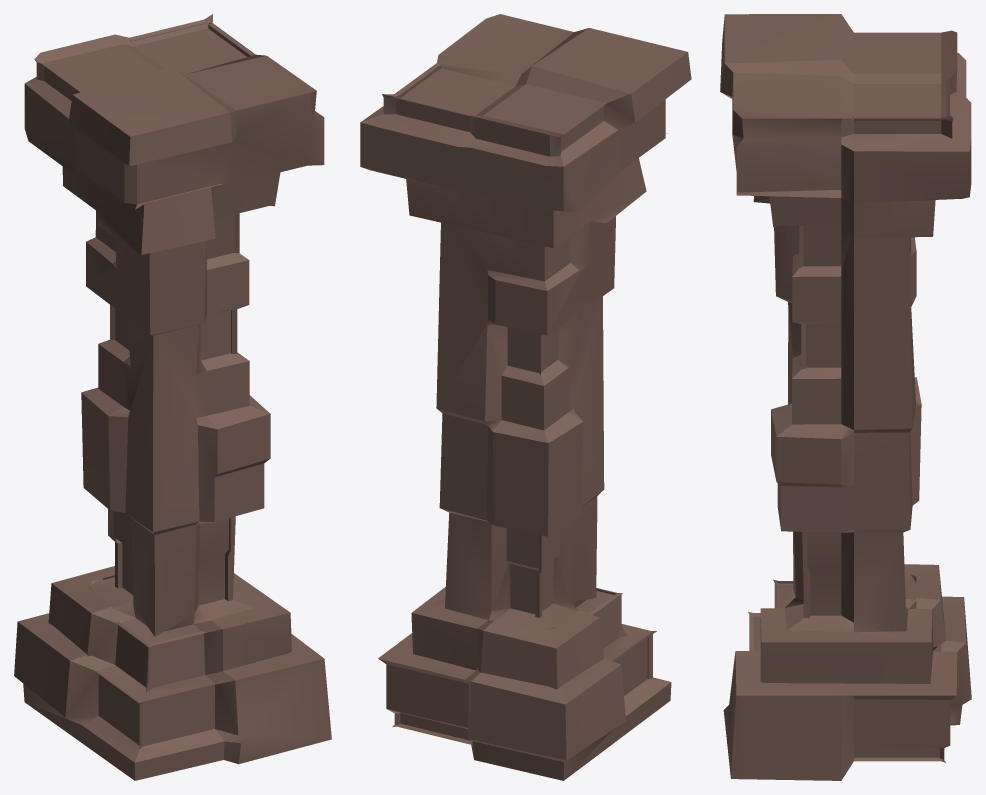
Rendered from stones_pillar.fbx.
The picture shows the model from 3 angles, left to right: view 1: azimuth 30°, elevation 25°; view 2: azimuth 150°, elevation 25°; view 3: azimuth 270°, elevation 25°; orthographic projection. The views are drawn at different scales.
Visible parts, largest first — view 1: Cube.030; view 2: Cube.030; view 3: Cube.030.
Part boxes in pixels (bbox=[...]): Cube.030: bbox=[14, 14, 331, 780]; Cube.030: bbox=[360, 14, 691, 780]; Cube.030: bbox=[720, 14, 971, 780].
Size of the model in its own units: 279 by 825 by 281.
